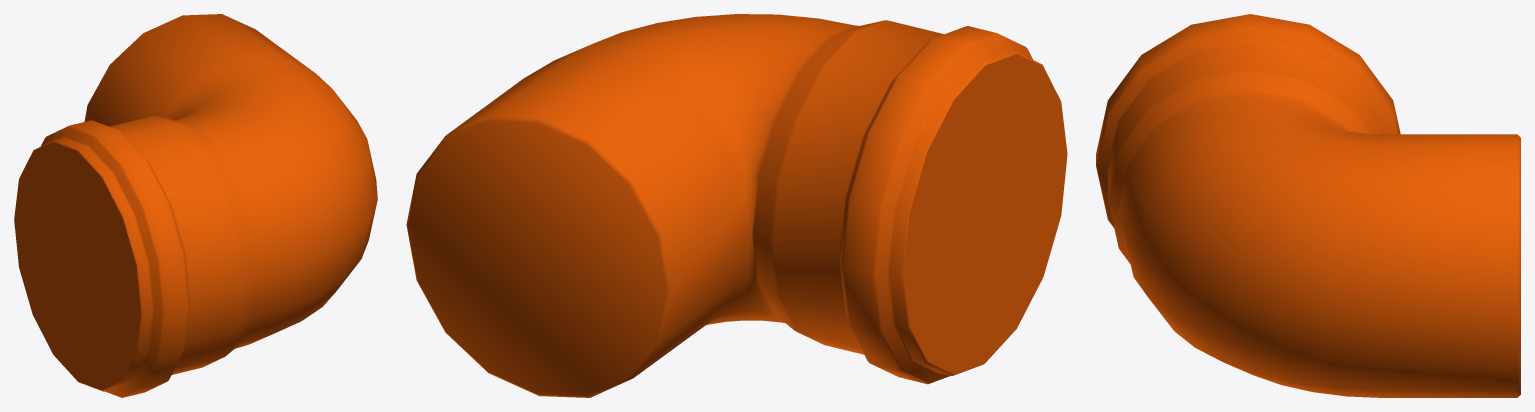
Rendered from PVC_Bend_B.FBX.
3 views of the same model, side by side, from view 1: azimuth 30°, elevation 25°; view 2: azimuth 150°, elevation 25°; view 3: azimuth 270°, elevation 25° (orthographic). The views are drawn at different scales.
Parts seen in each view (by area): view 1: PVC_Bend_B; view 2: PVC_Bend_B; view 3: PVC_Bend_B.
Part boxes in pixels (left/top/right/bottom): PVC_Bend_B: left=14, top=14, right=377, bottom=397; PVC_Bend_B: left=406, top=14, right=1067, bottom=397; PVC_Bend_B: left=1096, top=14, right=1520, bottom=397.
Bounding box in the file's own units: 25.5 × 18.74 × 25.77.
